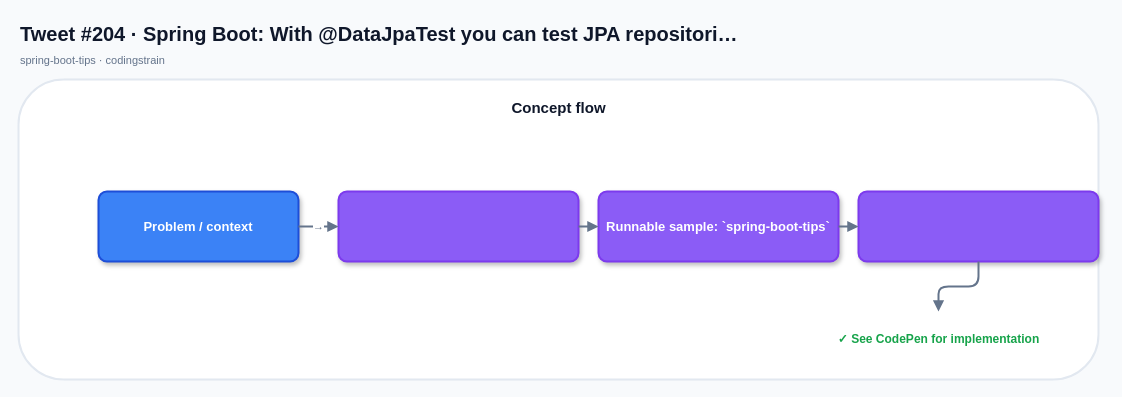
The diagram is 1122 pixels wide and 397 high, and some of its shapes have lost their labels. Here are the shapes that lost their labels. From the top down, the centre of each, then its label:
At point (459, 227): "#SpringBoot #Java".
At point (979, 227): "Architecture diagram + Carbon CodePen below".
